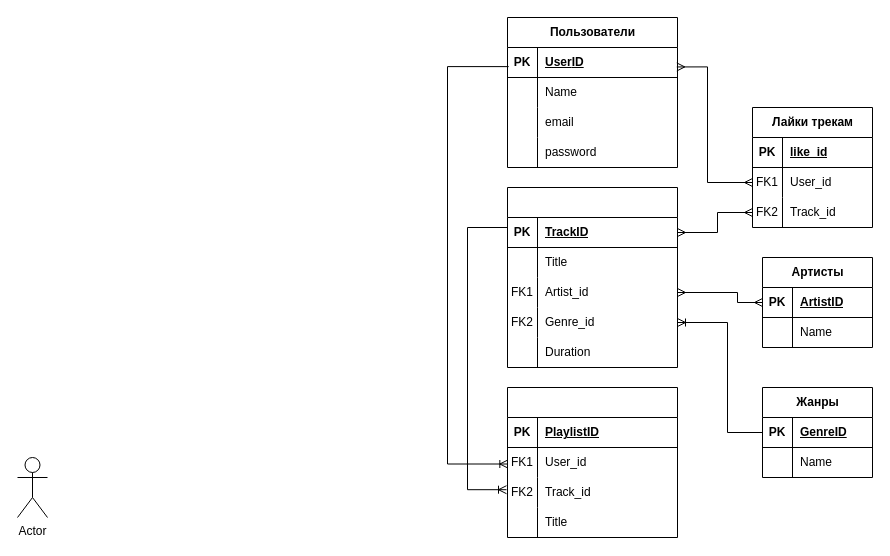
Some shapes in this 890 by 556 pixel diagram are drawn without their labels. The shapes that lost their labels are listed below. From the top down, each one's box as (x1, y1, x2, y2) in pixels, then its label:
(506, 186, 678, 368): Треки
(506, 386, 678, 538): Плейлисты юзеров
